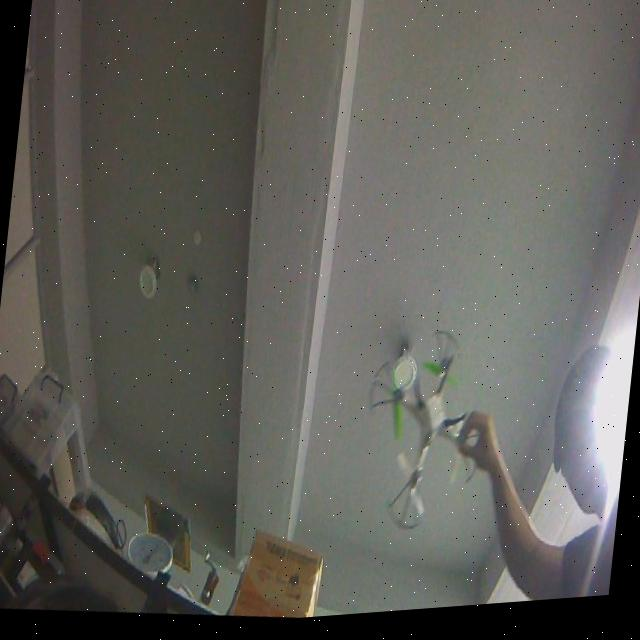drone: (354, 323, 496, 548)
